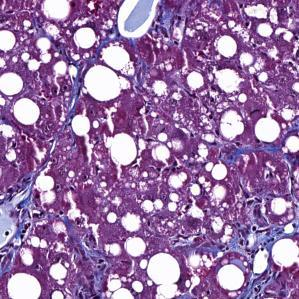fibrosis: (0, 187, 44, 270), (232, 211, 295, 253)
